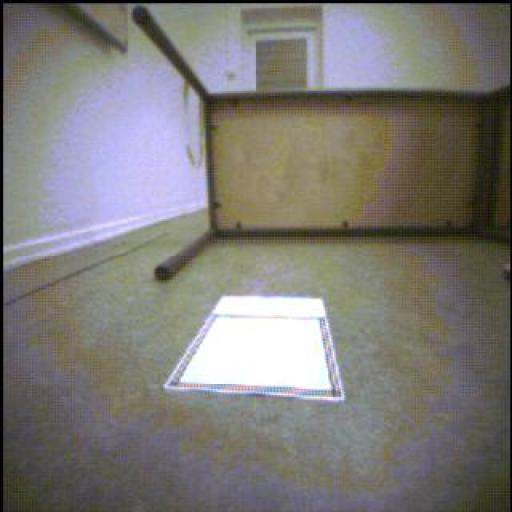Pad: (192, 281, 346, 416)
